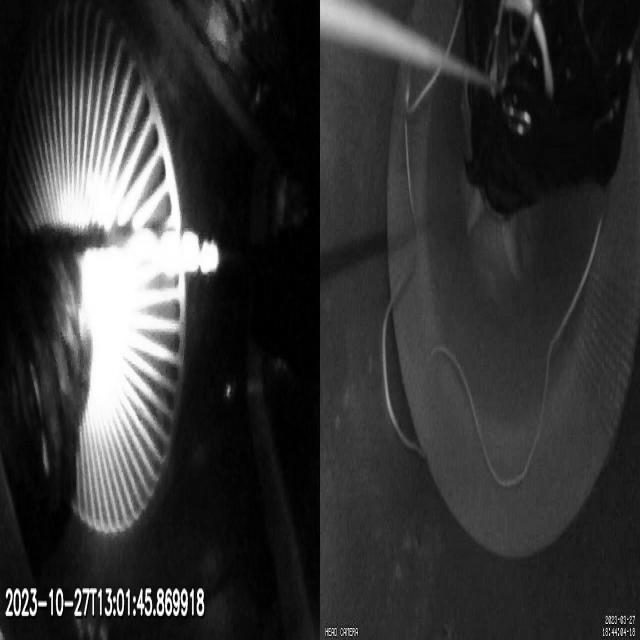white-dots: (164, 229, 220, 280)
